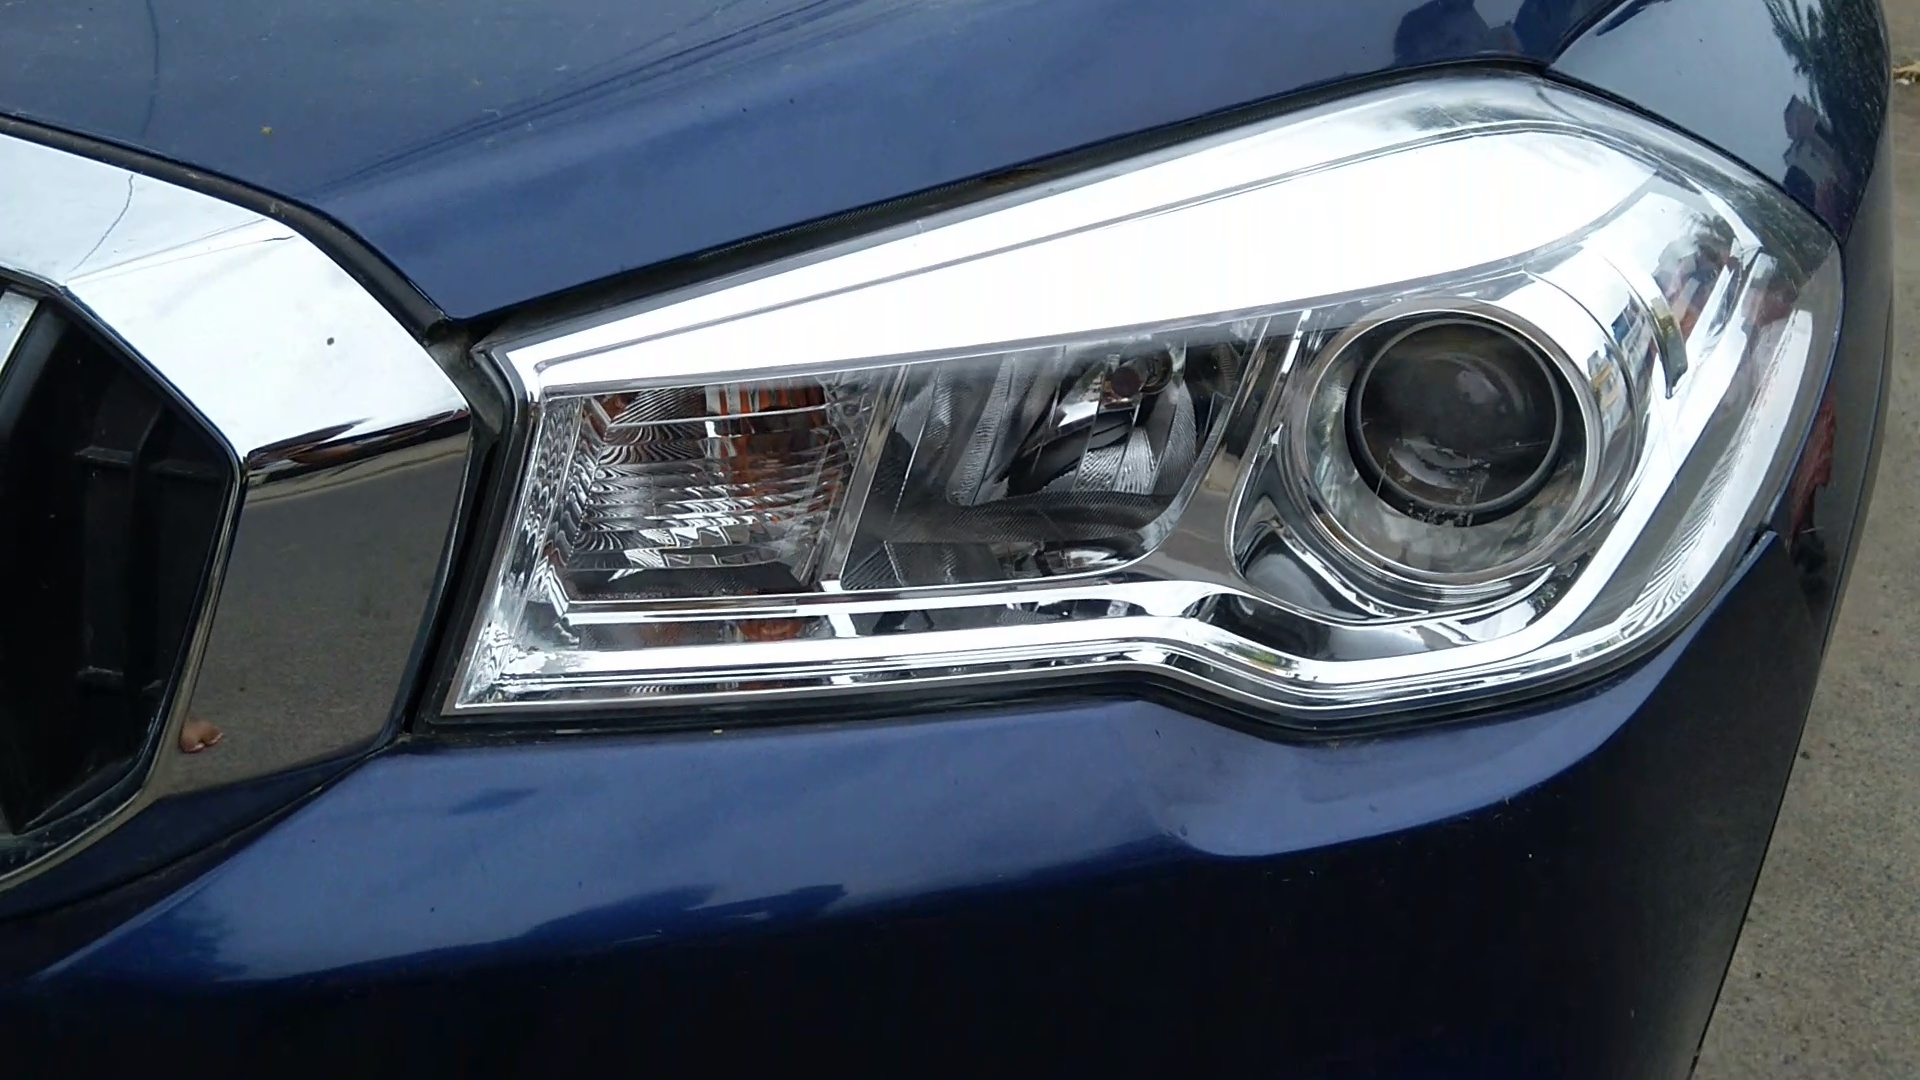headlamp: (421, 36, 1859, 851)
